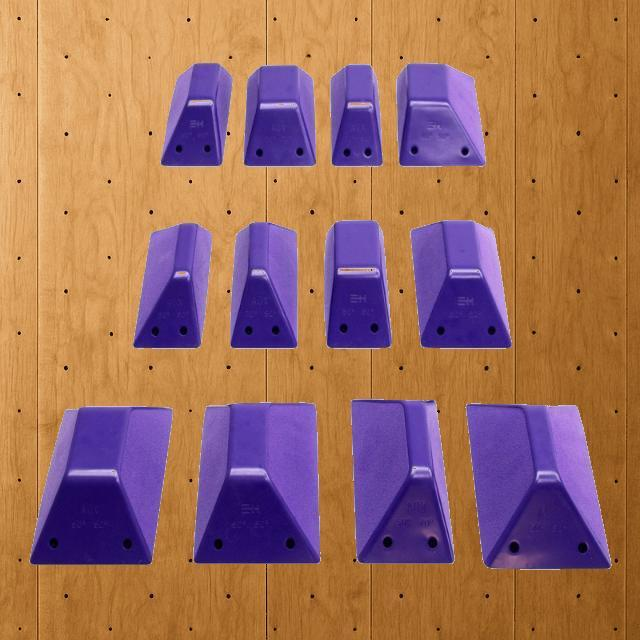Pinch: (466, 403, 610, 569), (28, 405, 172, 565), (192, 402, 320, 564), (350, 398, 454, 564), (410, 218, 512, 348), (132, 222, 212, 348), (396, 62, 486, 166), (324, 218, 392, 348), (230, 220, 298, 348), (242, 63, 316, 165), (160, 62, 232, 166), (330, 63, 382, 165)
